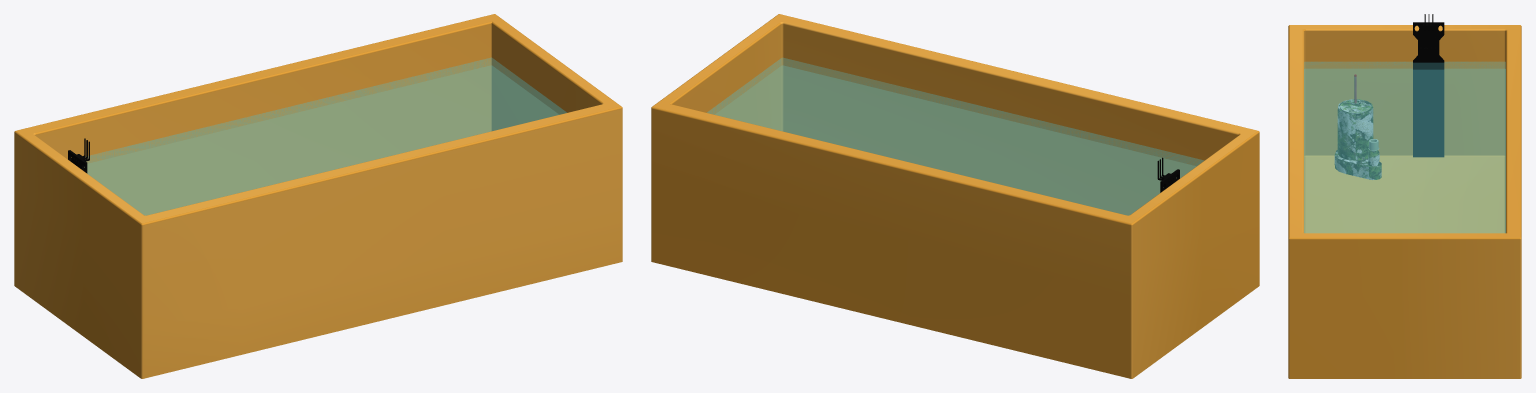
File: rasengan5.obj
The picture shows the model from 3 angles, left to right: view 1: azimuth 30°, elevation 25°; view 2: azimuth 150°, elevation 25°; view 3: azimuth 270°, elevation 25°; orthographic projection. The views are drawn at different scales.
Visible parts, largest first — view 1: Group04; view 2: Group04; view 3: Group04, Group05.
Boxes of the visible parts, x1,y1,x2,y2 form: Group04: [14, 14, 622, 378]; Group04: [651, 14, 1259, 378]; Group04: [1288, 25, 1521, 378]; Group05: [1413, 14, 1444, 157].
Size of the model in its own units: 20.1 by 7.07 by 9.26.
Materials: 5 (3 with a texture image).
